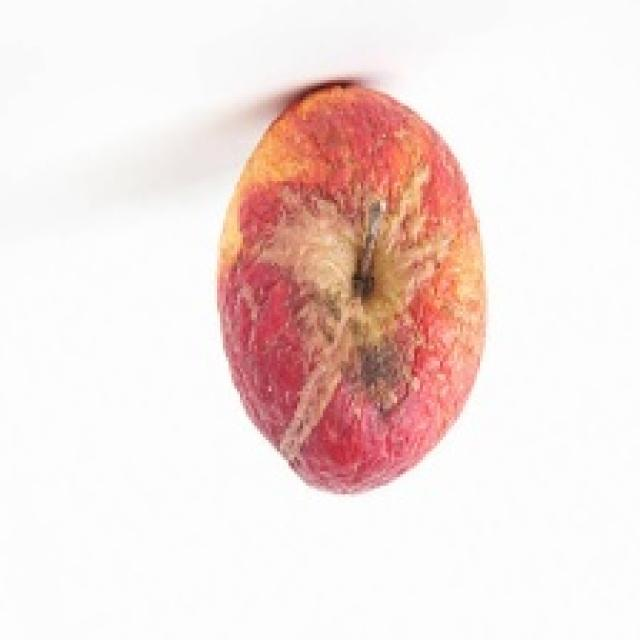rotten_apple: (225, 85, 482, 482)
